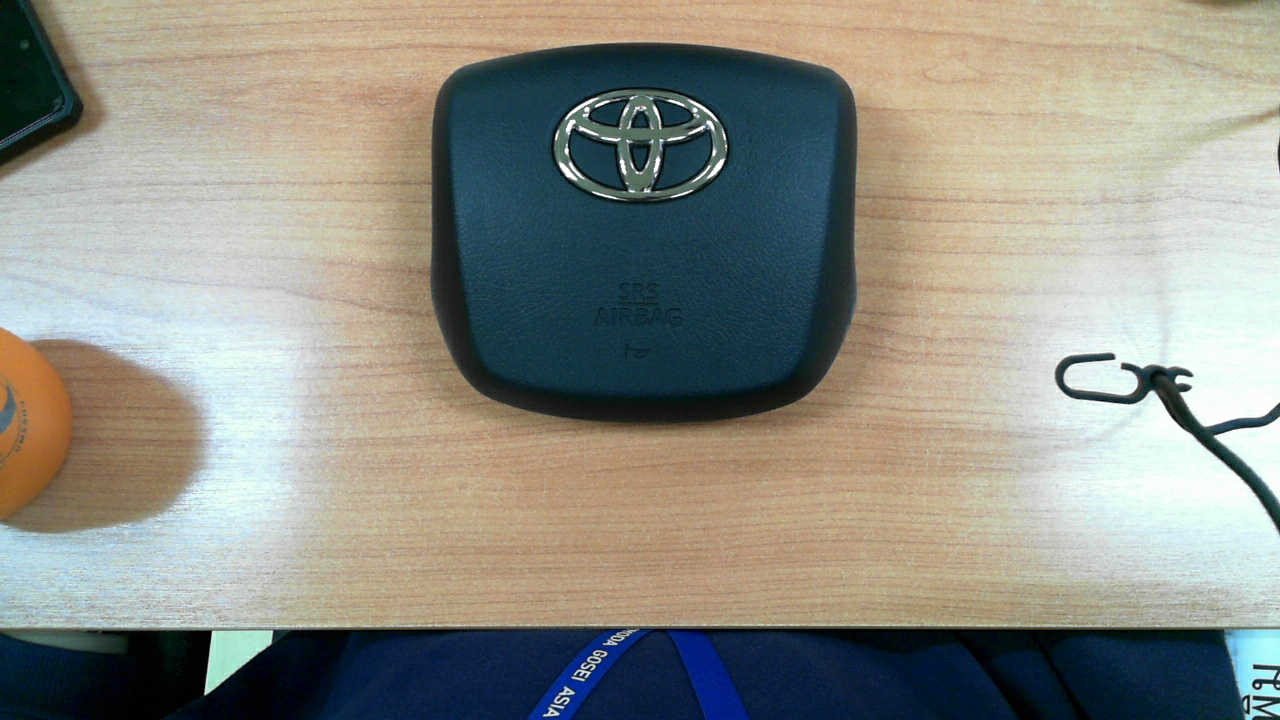Airbag: (401, 15, 885, 431)
